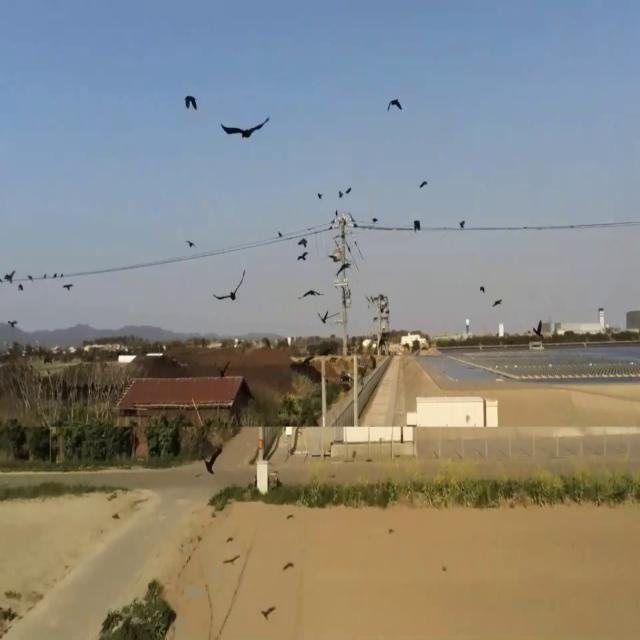bird: (220, 108, 269, 151), (214, 267, 244, 311), (302, 282, 321, 308), (387, 91, 402, 122), (184, 87, 198, 118), (2, 264, 15, 288), (318, 306, 329, 331), (297, 238, 308, 263), (413, 213, 421, 237), (419, 173, 428, 194), (493, 292, 502, 312), (63, 277, 73, 295), (187, 234, 194, 253), (480, 280, 485, 296), (460, 217, 465, 233), (18, 280, 23, 296), (318, 188, 322, 204), (278, 228, 282, 242)
